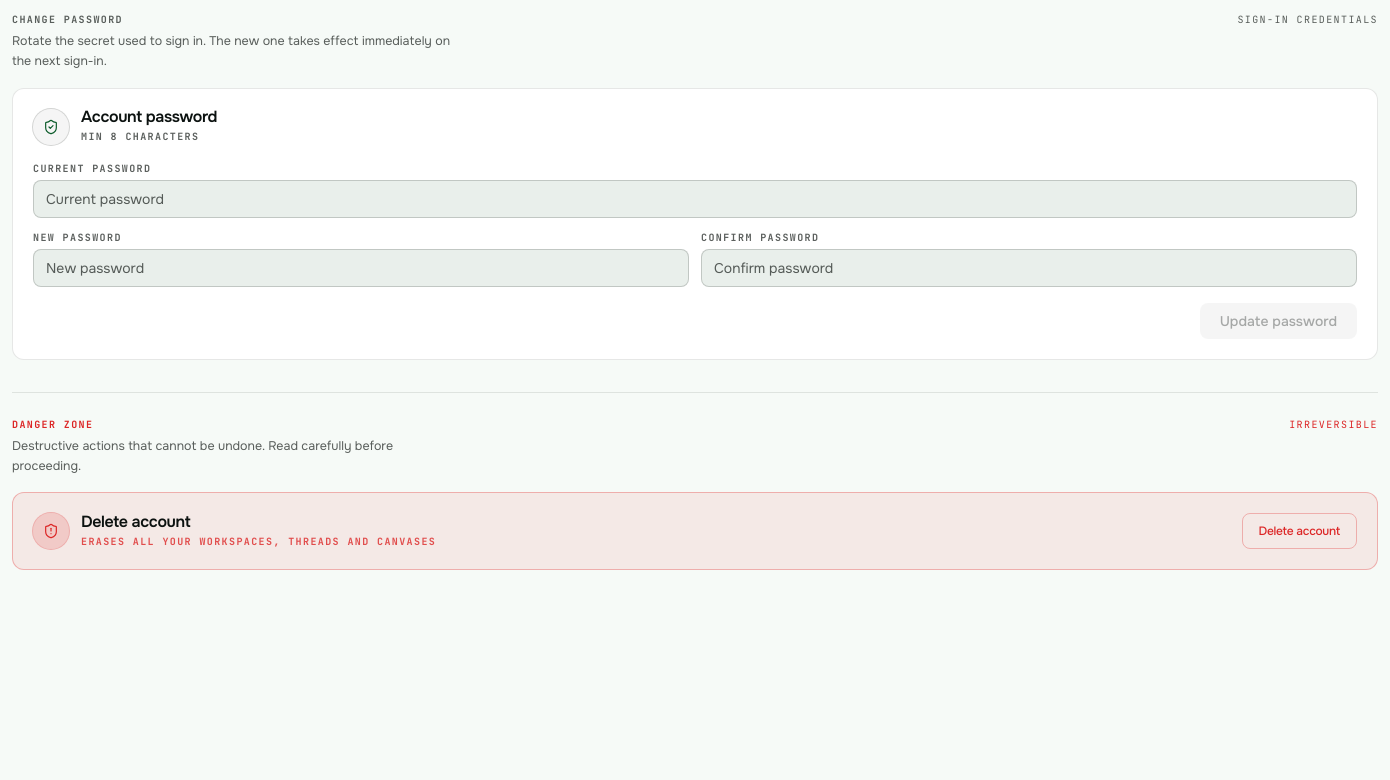
Test: SecuritySection › GIVEN a filled form whose current password the server rejects › WHEN the password change is submitted › THEN the incorrect password is explained and the fields stay filled
Type "old-secret-1" into the password field labelled "Current password". click: point(695, 199)
box: top-left (33, 180), bottom-right (1357, 218)
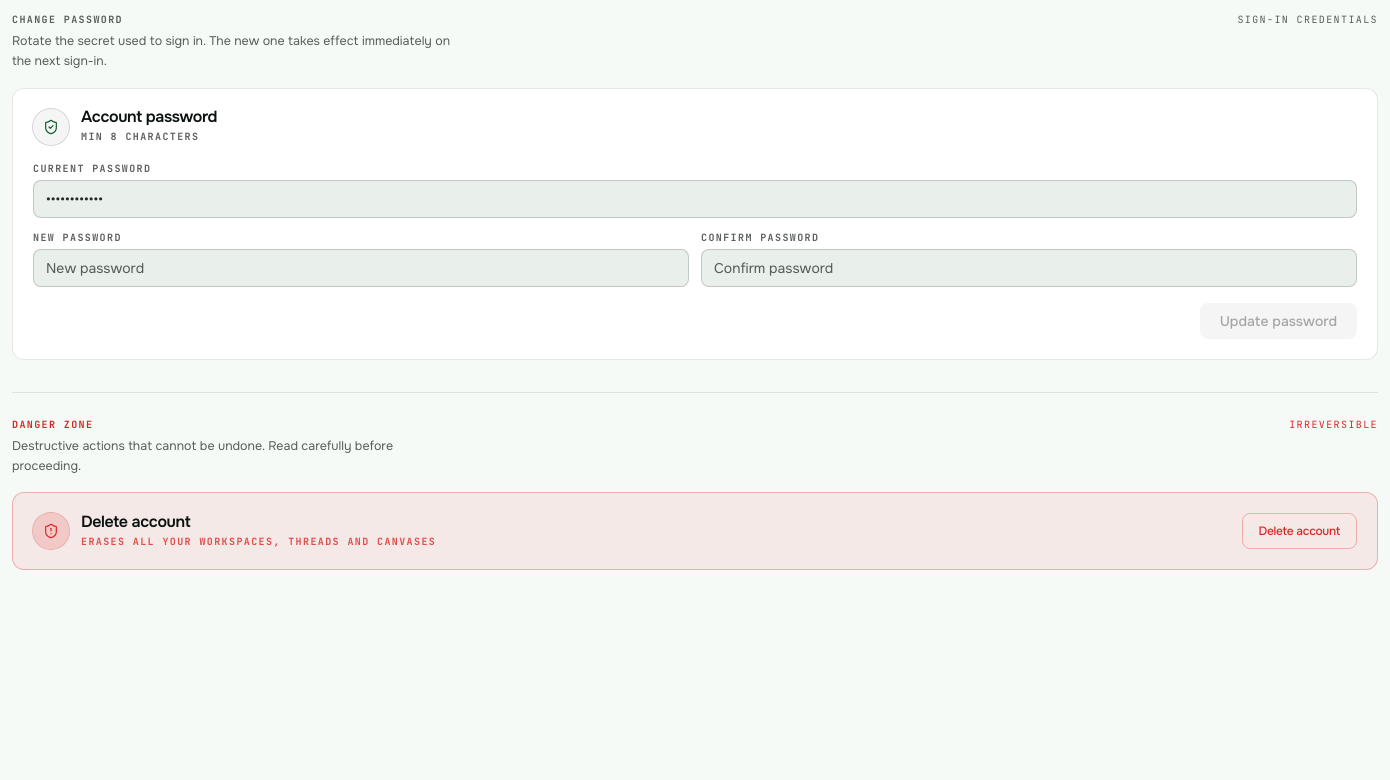
Type "new-secret-1" into the password field labelled "New password". click: point(361, 268)
box: top-left (33, 249), bottom-right (689, 287)
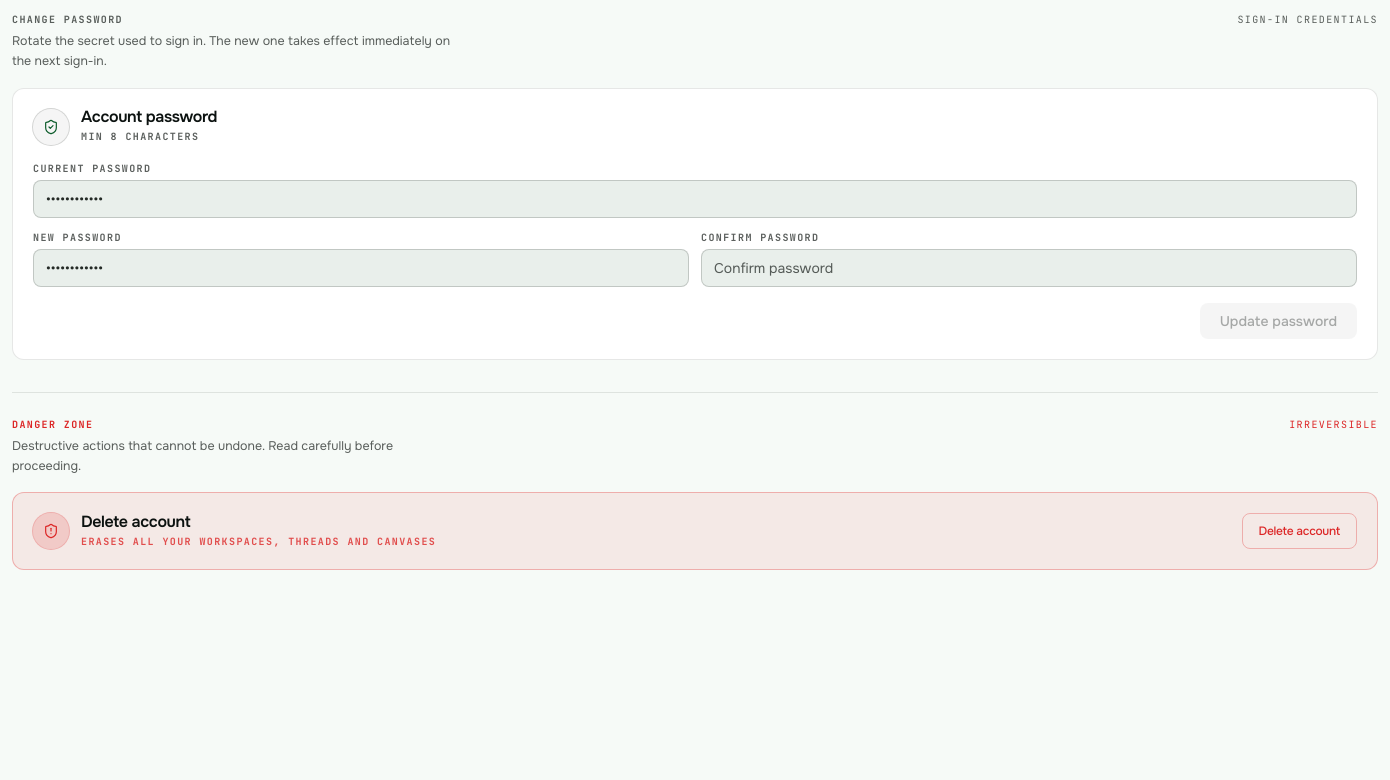
Type "new-secret-1" into the password field labelled "Confirm password". click: point(1029, 268)
box: top-left (701, 249), bottom-right (1357, 287)
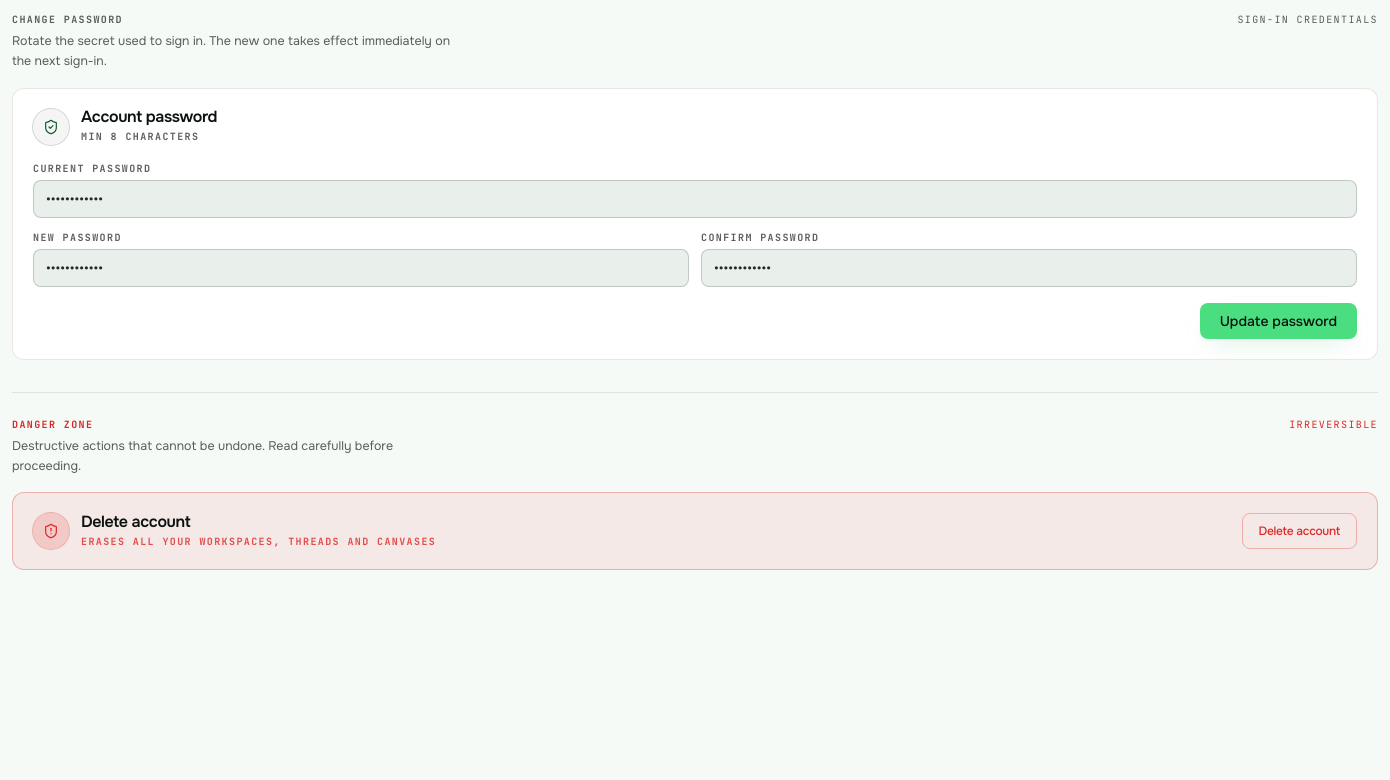
Click the button "Update password". click: point(1278, 321)
box: top-left (1200, 303), bottom-right (1357, 339)
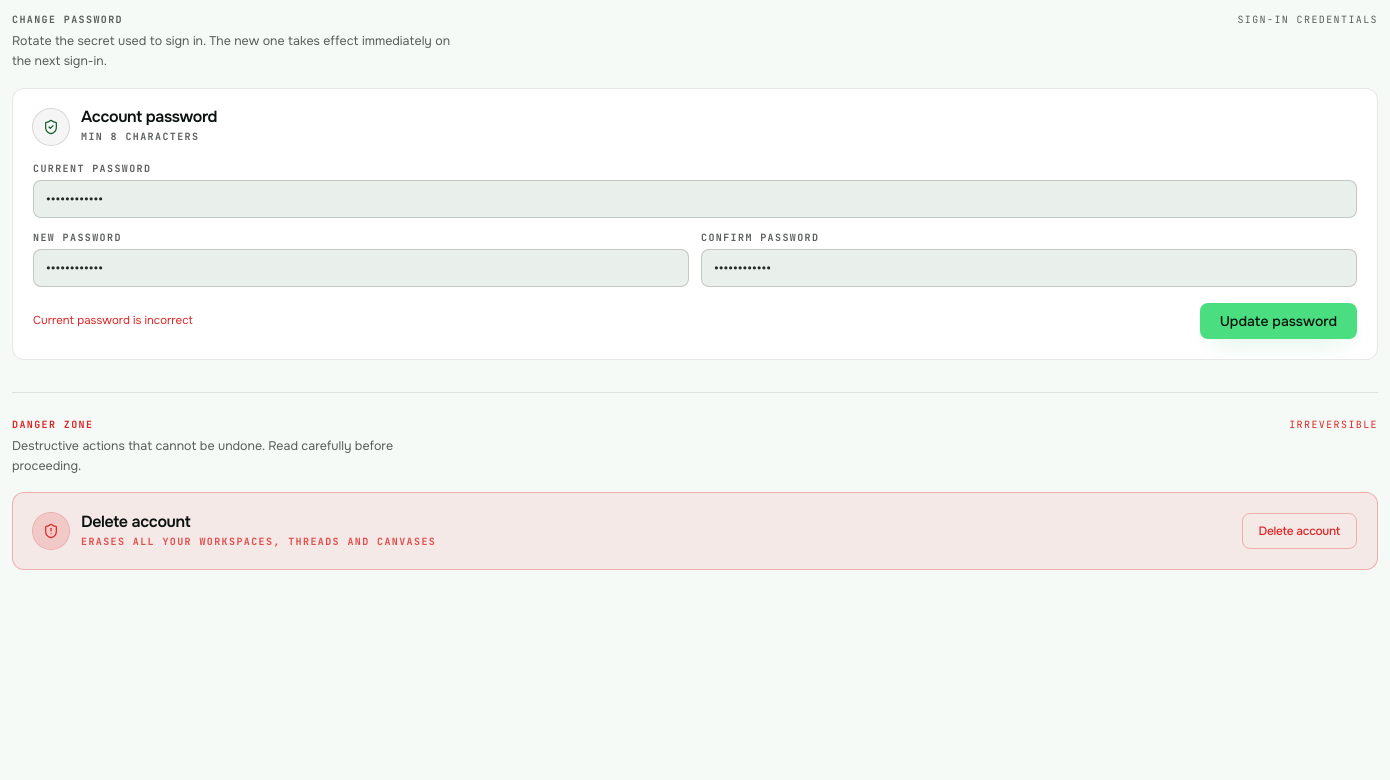
Now the text "Current password is incorrect" is shown, box top-left (33, 313), bottom-right (193, 328)
